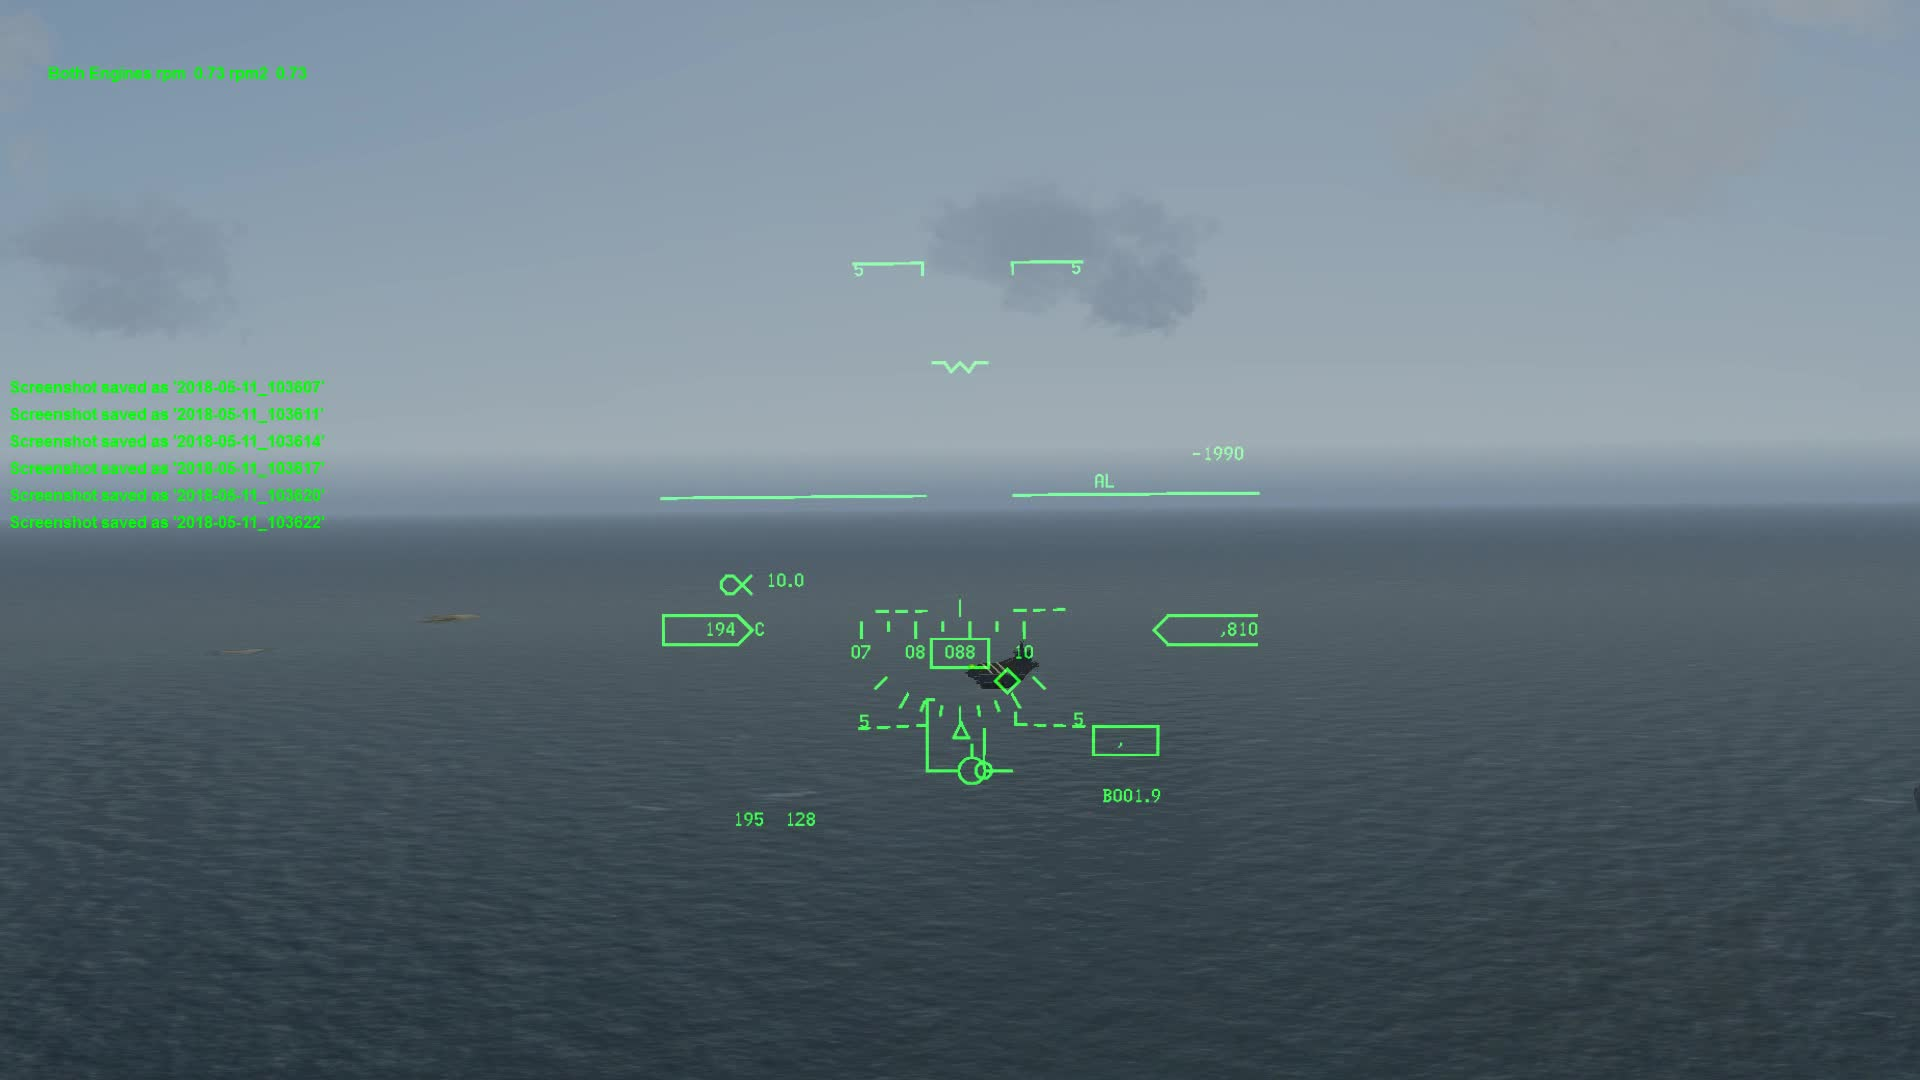speed vector: (934, 741, 1017, 789)
